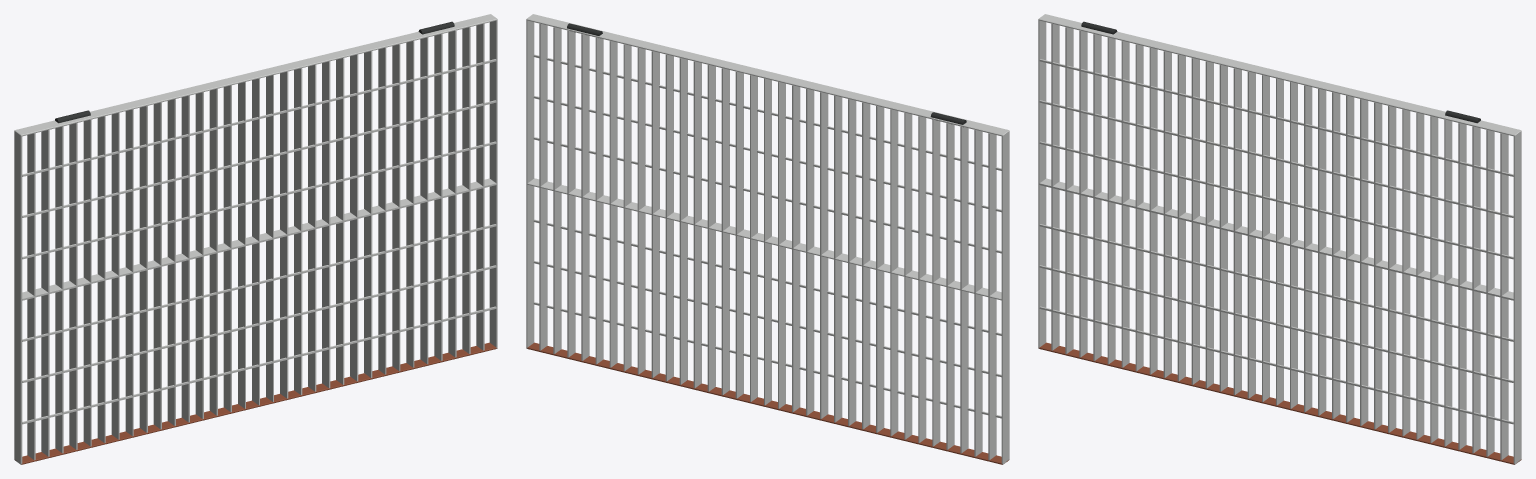
Rendered from drum_sump_pallet_grating.glb.
The picture shows the model from 3 angles, left to right: view 1: azimuth 30°, elevation 25°; view 2: azimuth 150°, elevation 25°; view 3: azimuth 330°, elevation 25°; orthographic projection.
Visible parts, largest first — view 1: drum_sump_pallet_grating.001; view 2: drum_sump_pallet_grating.001; view 3: drum_sump_pallet_grating.001.
Boxes of the visible parts, x1,y1,x2,y2 form: drum_sump_pallet_grating.001: (14, 14, 497, 464); drum_sump_pallet_grating.001: (526, 14, 1009, 464); drum_sump_pallet_grating.001: (1038, 14, 1521, 464).
Bounding box in the file's own units: 1.18 × 0.788 × 0.03.
